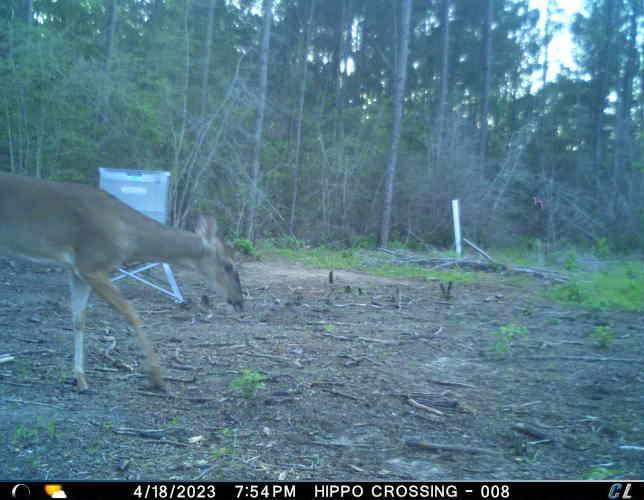Deer: (0, 165, 249, 400)
